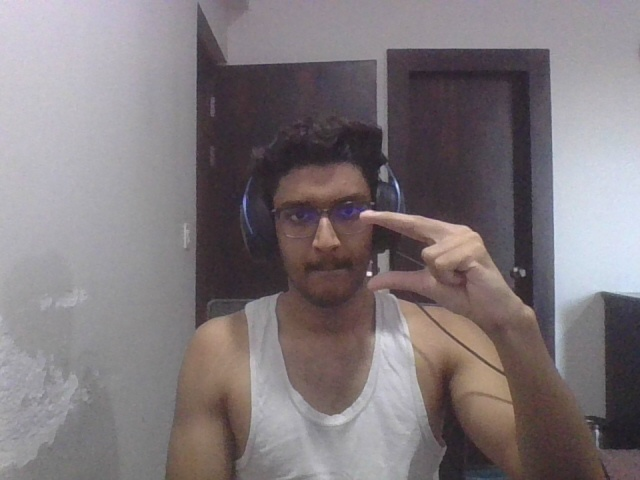No: (349, 197, 532, 333)
